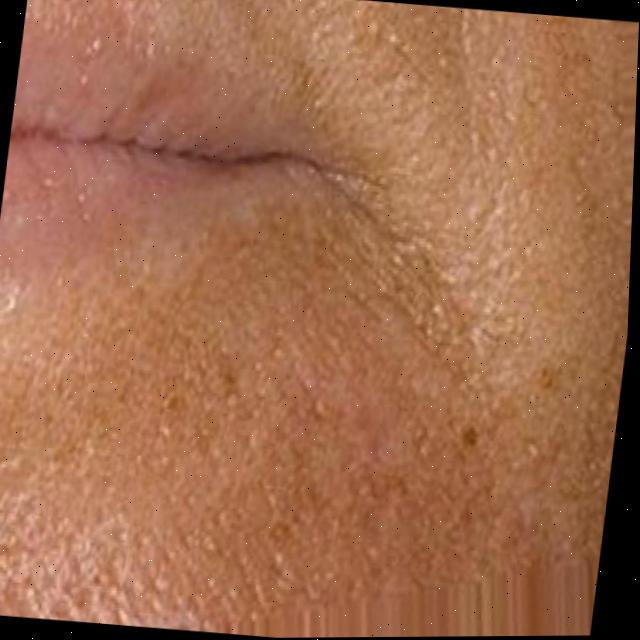Rosacea: (153, 337, 452, 552)
